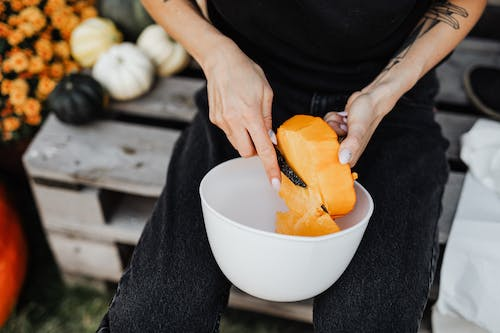knife: (272, 142, 329, 215)
